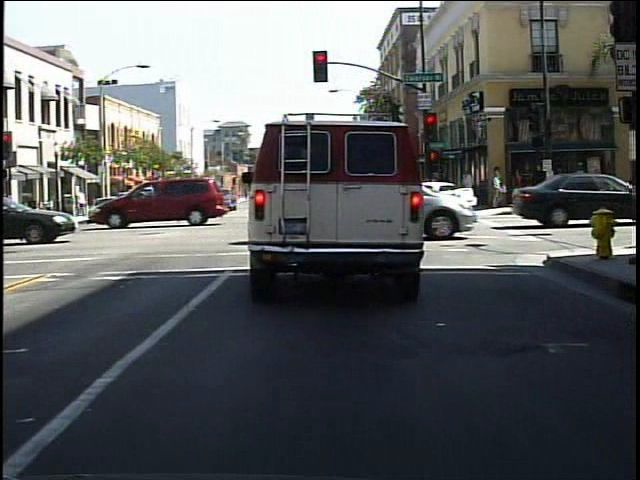person: (529, 159, 549, 208), (510, 164, 530, 208)
